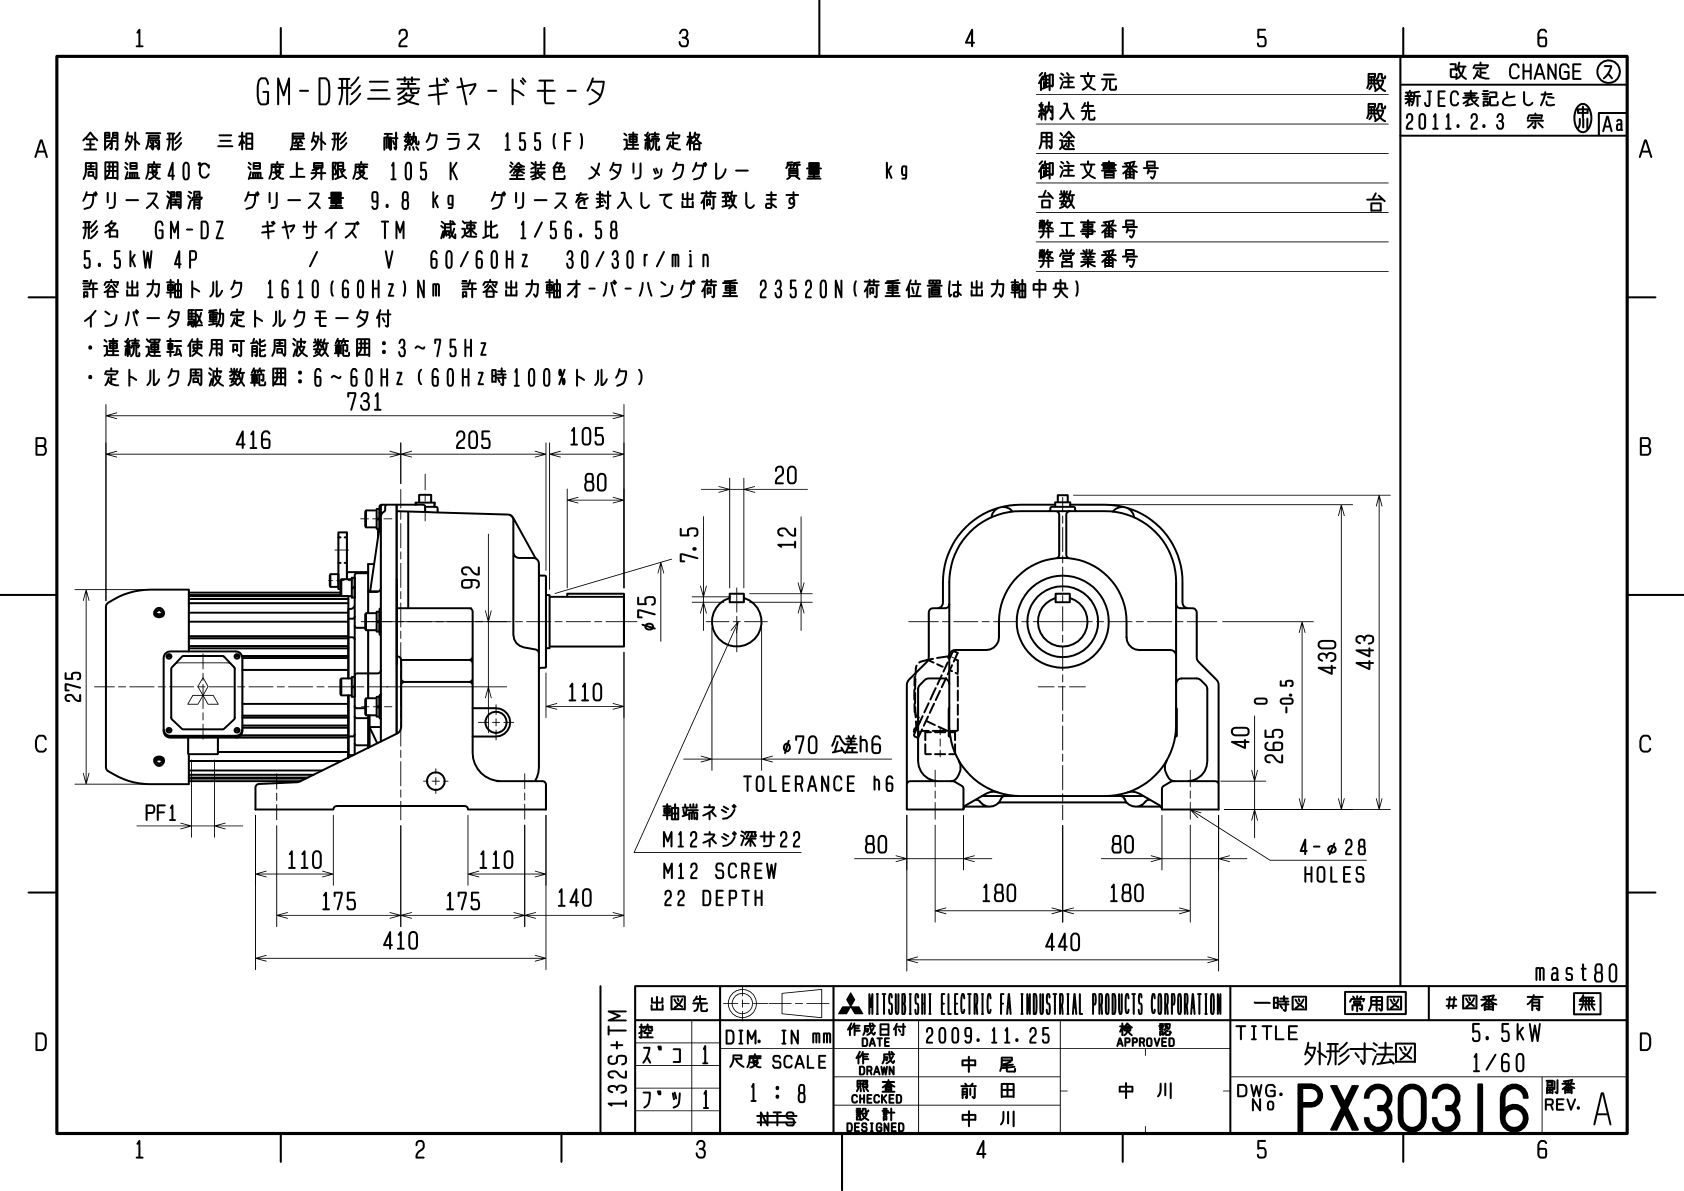GM_D_インバータ屋外_三相_脚: (1, 1, 1678, 1181)
